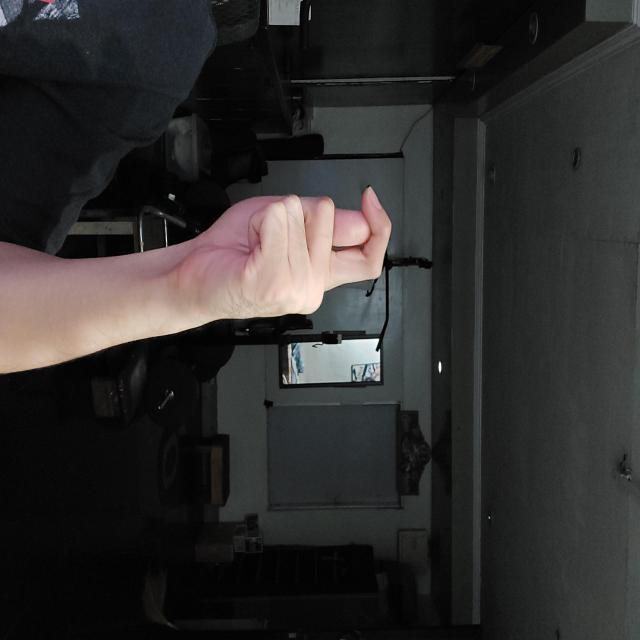T: (186, 247, 321, 462)
